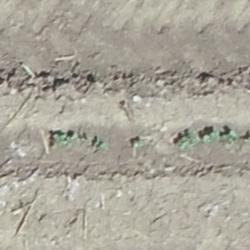cotton: (225, 131, 235, 142), (187, 129, 195, 142), (178, 138, 187, 147), (55, 134, 65, 142), (204, 134, 214, 141), (99, 142, 106, 148), (135, 139, 142, 145), (212, 129, 216, 138)
